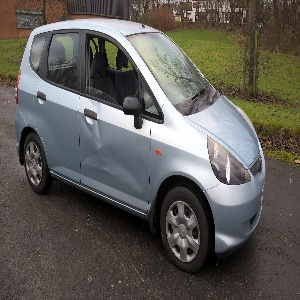door: (71, 120, 142, 191)
